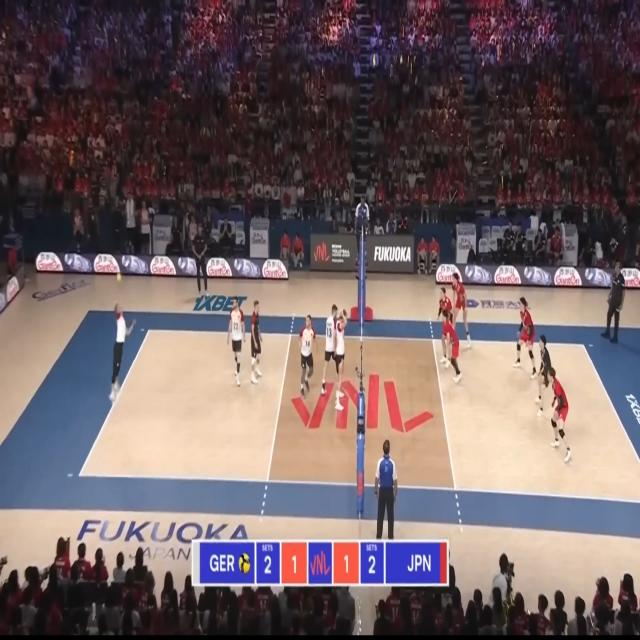ball: (117, 273, 121, 281)
